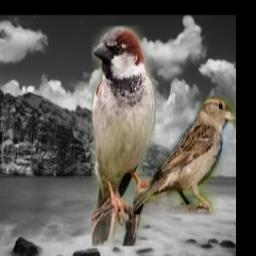Sparrow: (92, 27, 156, 247), (132, 98, 235, 215)
